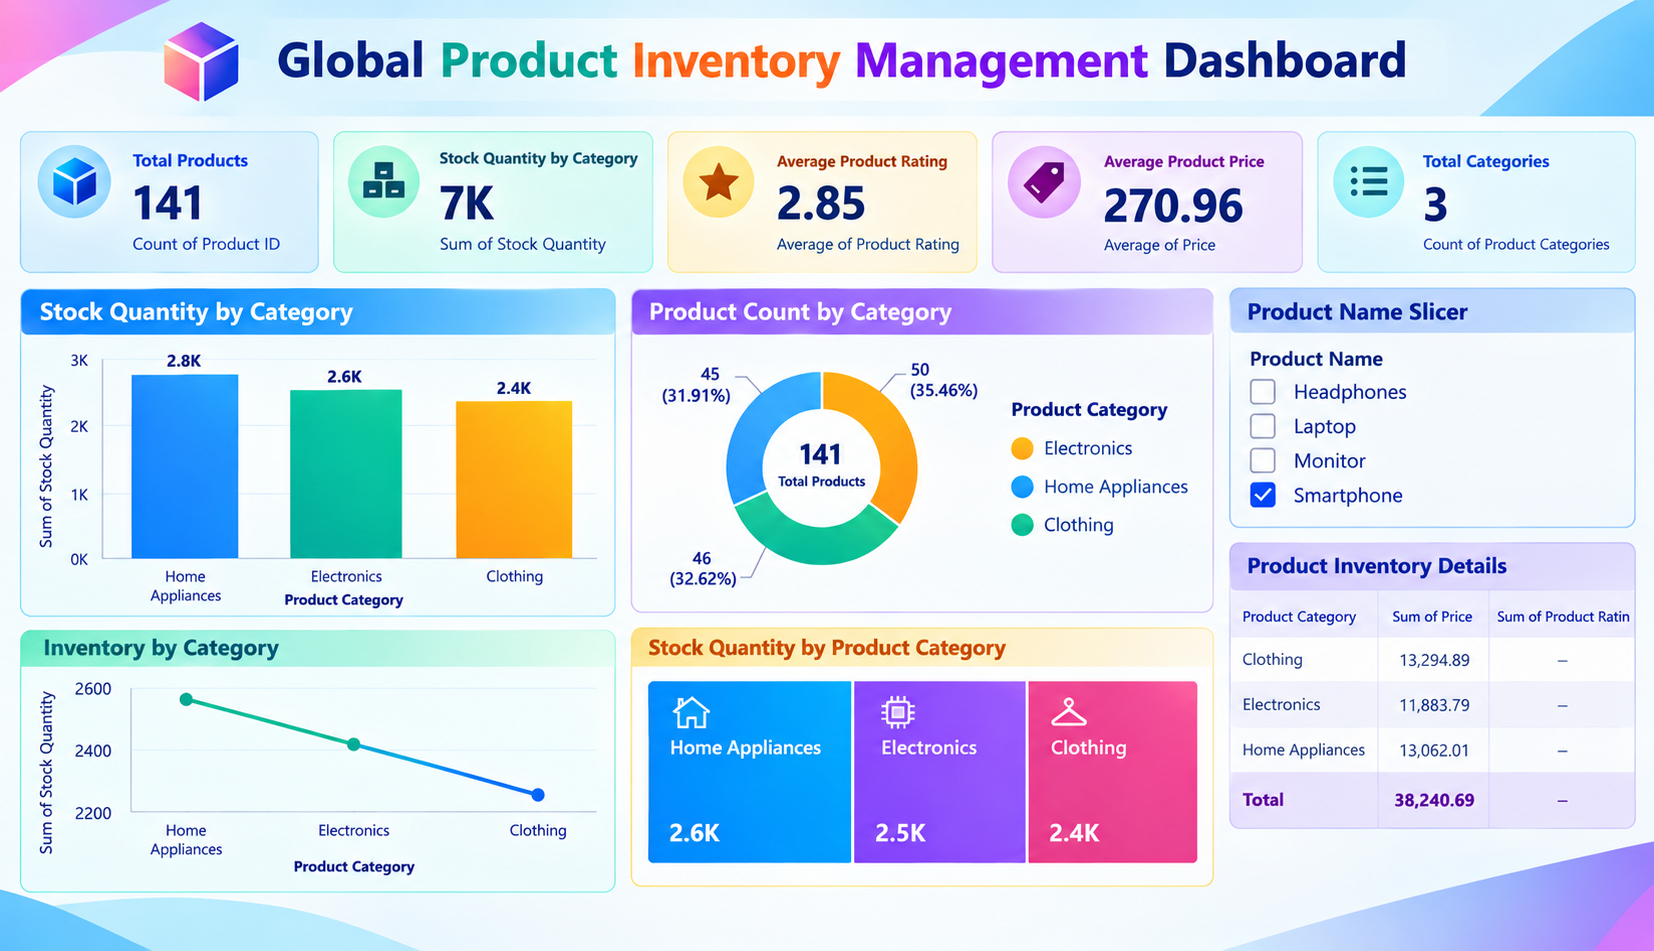

This screenshot's page, from the dashboard's own definition file:
{"tool":"powerbi","page":{"name":"Page 1","canvas":[1280,720],"ordinal":0},"visuals":[{"type":"textbox","box":[10.1,0,1211.1,99.1],"z":0},{"type":"cardVisual","title":"Total Products","fields":{"Data":["CountNonNull(products_500_rows.Product ID)","Sum(products_500_rows.Stock Quantity)"]},"box":[0,80.5,398,139],"z":1000},{"type":"cardVisual","title":"Average Product Price","fields":{"Data":["Avg(products_500_rows.Price)"]},"box":[654.1,93.7,245.9,139],"z":2000},{"type":"cardVisual","title":"Average Product Rating","fields":{"Data":["Avg(products_500_rows.Product Ratings)"]},"box":[408.3,99.5,245.9,128.8],"z":3000},{"type":"cardVisual","title":"Total Categories","fields":{"Data":["Count(products_500_rows.Product Category)"]},"box":[945.4,90.7,245.9,128.8],"z":4000},{"type":"clusteredColumnChart","title":"Stock Quantity by Category","fields":{"Category":["products_500_rows.Product Category"],"Y":["Sum(products_500_rows.Stock Quantity)"]},"box":[10.2,228.3,408.3,272.2],"z":5000},{"type":"donutChart","title":"Product Count by Category","fields":{"Category":["products_500_rows.Product Category"],"Y":["CountNonNull(products_500_rows.Product ID)"]},"box":[434.6,272.2,408,210],"z":6000},{"type":"slicer","title":"Product Name Slicer","fields":{"Values":["products_500_rows.Product Name"]},"box":[970.9,228.5,250.2,190.2],"z":7000},{"type":"lineChart","title":"Inventory by Category","fields":{"Category":["products_500_rows.Product Category"],"Y":["Sum(products_500_rows.Stock Quantity)"]},"box":[43.7,468.7,408,210],"z":8000},{"type":"treemap","title":"Stock Quantity by Product Category","fields":{"Group":["products_500_rows.Product Category"],"Values":["Sum(products_500_rows.Stock Quantity)"]},"box":[507.3,500.6,391,197],"z":9000},{"type":"pivotTable","title":"Product Inventory Details","fields":{"Rows":["products_500_rows.Product Category"],"Values":["Sum(products_500_rows.Price)","Sum(products_500_rows.Product Ratings)","Sum(products_500_rows.Stock Quantity)"]},"box":[950.8,423.3,329.2,255.3],"z":10000}]}

Visuals, with their boxes in screenshot pixels (x1, y1, x2, y2), scaled from the page's 1280x720 canvas onto the 1654x951 screenshot:
textbox: 13:0:1578:131
"Total Products" cardVisual: 0:106:514:290
"Average Product Price" cardVisual: 845:124:1163:307
"Average Product Rating" cardVisual: 528:131:845:302
"Total Categories" cardVisual: 1222:120:1539:290
"Stock Quantity by Category" clusteredColumnChart: 13:302:541:661
"Product Count by Category" donutChart: 562:360:1089:637
"Product Name Slicer" slicer: 1255:302:1578:553
"Inventory by Category" lineChart: 56:619:584:896
"Stock Quantity by Product Category" treemap: 656:661:1161:921
"Product Inventory Details" pivotTable: 1229:559:1653:896
